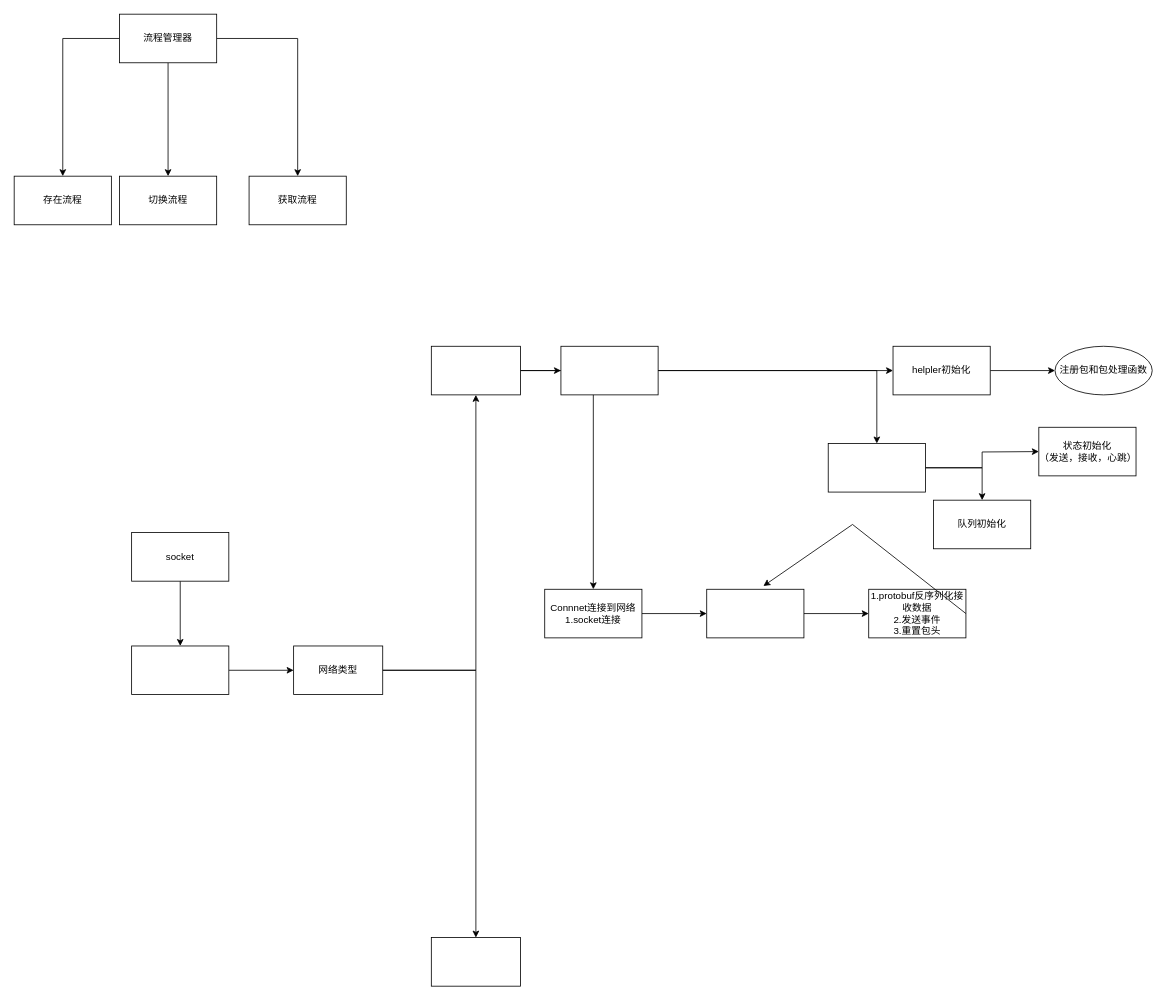
Some shapes in this 1166 by 1000 pixel diagram are drawn without their labels. Each missing label, with the centre of its shape:
1.开始接收数据 2.处理数据: point 755,613
socket初始化: point 876,467
TCP: point 475,370
TCP 同步: point 475,961
创建频道: point 180,670
网络初始化: point 609,370
